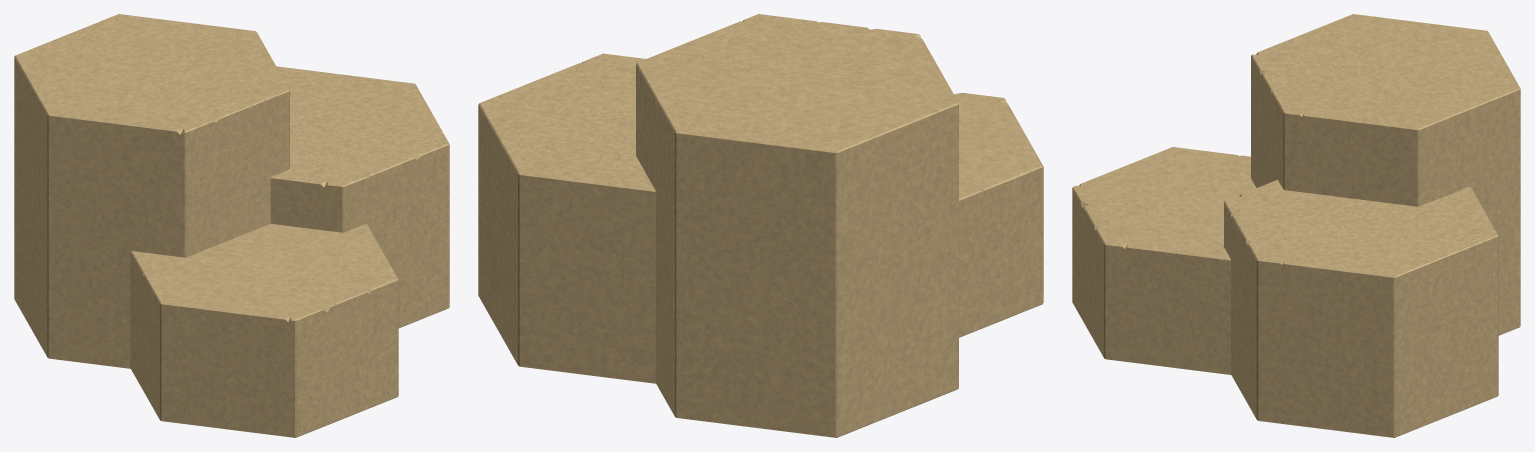
Rendered from OrirockConcentration_AlignedHex.fbx.
3 views of the same model, side by side, from view 1: azimuth 30°, elevation 25°; view 2: azimuth 150°, elevation 25°; view 3: azimuth 270°, elevation 25° (orthographic). The views are drawn at different scales.
Parts seen in each view (by area): view 1: 提纯源岩_左后_宽顶短壁, 提纯源岩_前方_宽扁断块, 提纯源岩_右后_斜切与下阶; view 2: 提纯源岩_左后_宽顶短壁, 提纯源岩_右后_斜切与下阶, 提纯源岩_前方_宽扁断块; view 3: 提纯源岩_右后_斜切与下阶, 提纯源岩_左后_宽顶短壁, 提纯源岩_前方_宽扁断块.
Part boxes in pixels (<box>): 提纯源岩_左后_宽顶短壁: <box>14,14,289,368</box>; 提纯源岩_前方_宽扁断块: <box>130,223,398,437</box>; 提纯源岩_右后_斜切与下阶: <box>270,66,449,328</box>; 提纯源岩_左后_宽顶短壁: <box>636,14,958,437</box>; 提纯源岩_右后_斜切与下阶: <box>478,53,655,383</box>; 提纯源岩_前方_宽扁断块: <box>954,92,1043,337</box>; 提纯源岩_右后_斜切与下阶: <box>1224,179,1498,437</box>; 提纯源岩_左后_宽顶短壁: <box>1251,14,1520,335</box>; 提纯源岩_前方_宽扁断块: <box>1072,147,1256,374</box>.
Bounding box in the file's own units: 162 × 97.18 × 165.
